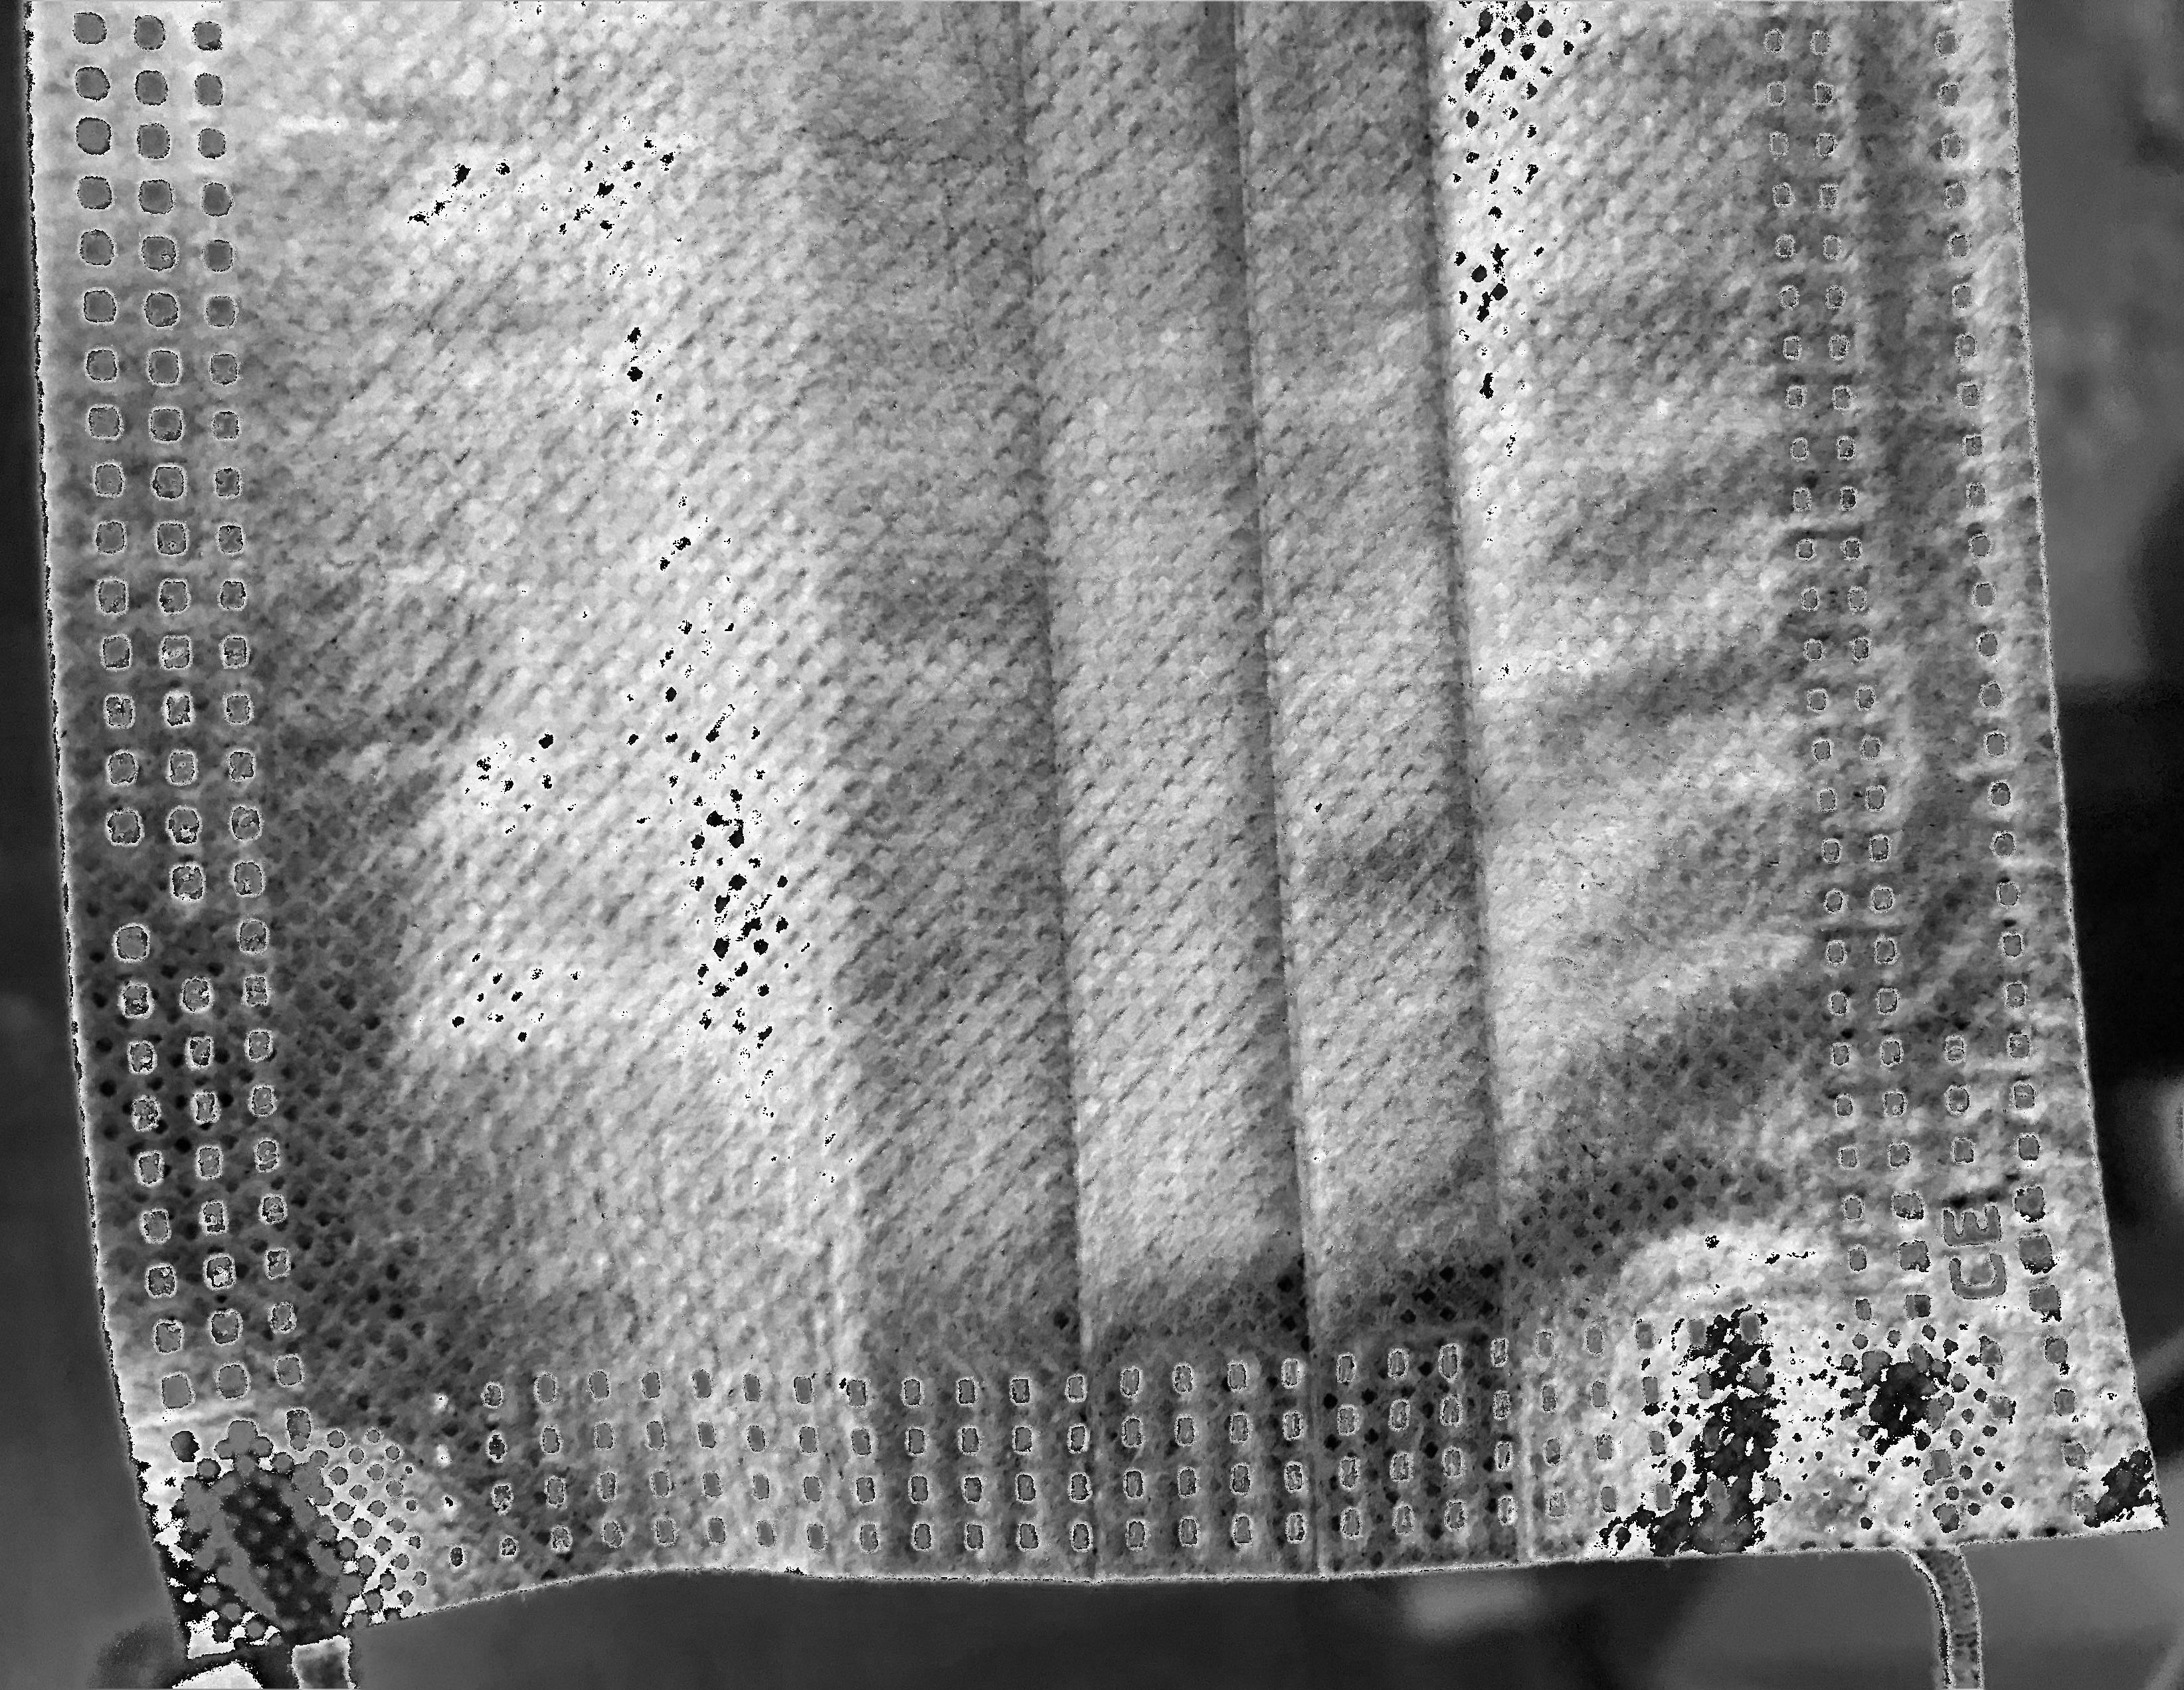High GSM: (342, 0, 1736, 1355)
